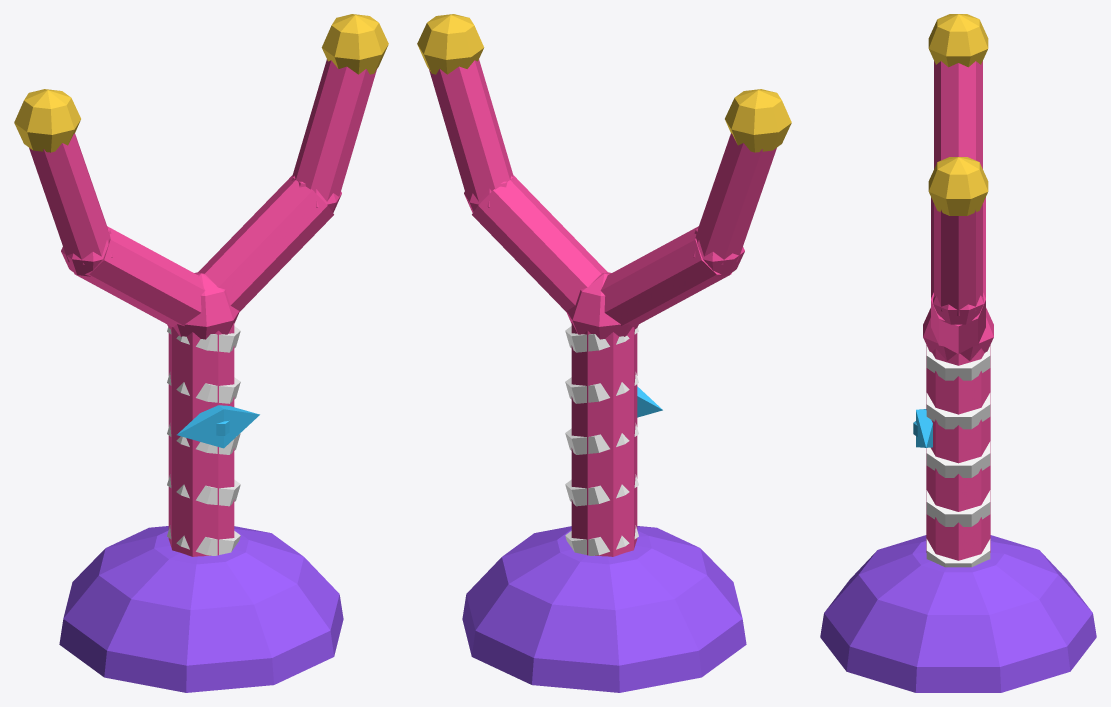
File: slingshot.fbx
3 renders of one model, left to right at view 1: azimuth 30°, elevation 25°; view 2: azimuth 150°, elevation 25°; view 3: azimuth 270°, elevation 25°, orthographic. The views are drawn at different scales.
Parts seen in each view (by area): view 1: Frame, Base, Tips, Stripes, Bow; view 2: Frame, Base, Tips, Stripes; view 3: Base, Frame, Tips, Stripes, Bow.
Part boxes in pixels (left/top/right/bottom): Frame: left=29, top=59, right=377, bottom=556; Base: left=59, top=526, right=343, bottom=692; Tips: left=14, top=14, right=388, bottom=152; Stripes: left=167, top=326, right=240, bottom=555; Bow: left=177, top=405, right=259, bottom=448; Frame: left=428, top=59, right=776, bottom=556; Base: left=462, top=526, right=746, bottom=692; Tips: left=417, top=14, right=791, bottom=152; Stripes: left=565, top=326, right=638, bottom=555; Base: left=820, top=535, right=1096, bottom=692; Frame: left=923, top=61, right=993, bottom=560; Tips: left=928, top=14, right=988, bottom=215; Stripes: left=926, top=346, right=990, bottom=567; Bow: left=913, top=409, right=932, bottom=447.
Bounding box in the file's own units: 5.18 × 7.92 × 3.6.
